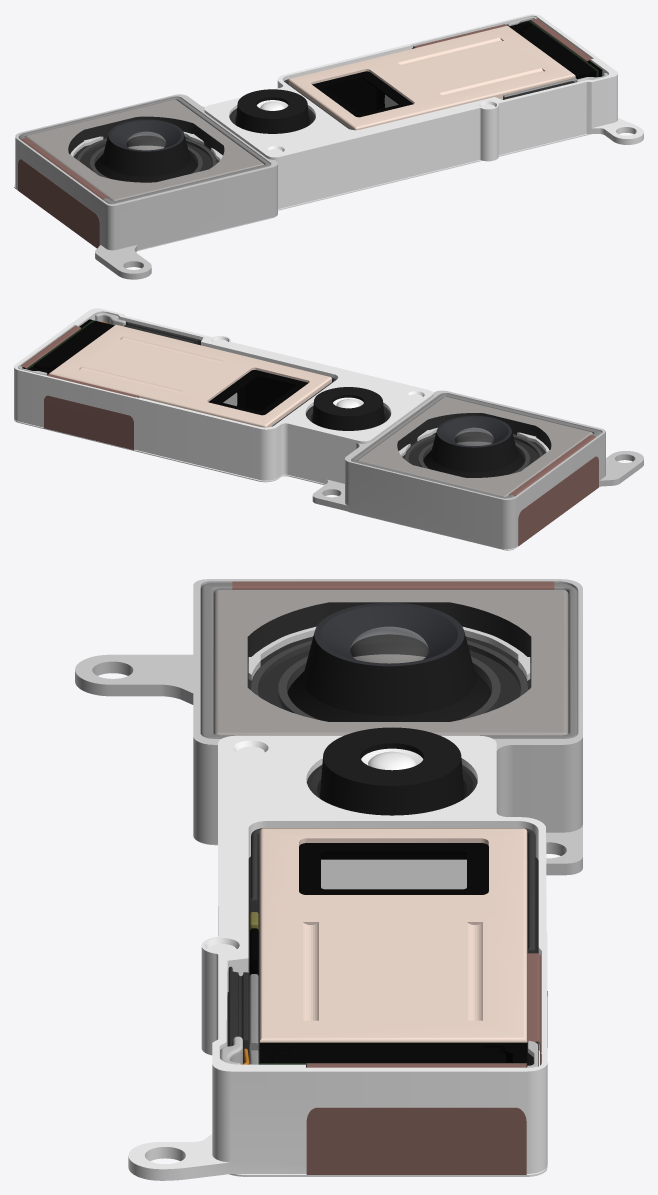
The model's file is Pixel6Pro.gltf.
3 renders of one model, top to bottom at view 1: azimuth 30°, elevation 25°; view 2: azimuth 150°, elevation 25°; view 3: azimuth 270°, elevation 25°, orthographic. The views are drawn at different scales.
Parts seen in each view (by area): view 1: 立方体.085; view 2: 立方体.085; view 3: 立方体.085.
Part boxes in pixels (<box>): 立方体.085: <box>14,14,643,279</box>; 立方体.085: <box>14,308,643,550</box>; 立方体.085: <box>75,579,582,1180</box>.
Size of what is drawn, in the model's own units: 8.33 by 0.9625 by 3.46.
